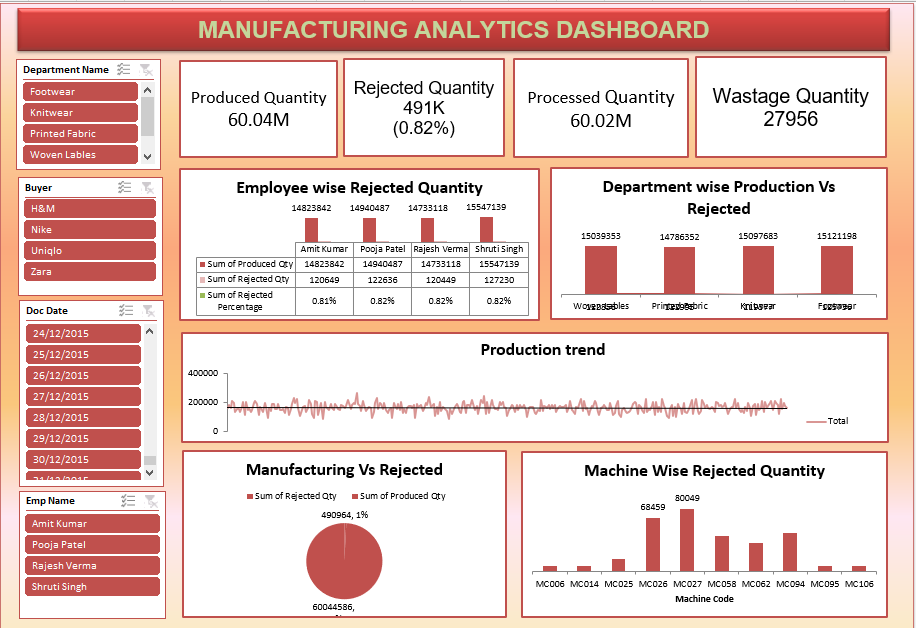

This screenshot's page, from the dashboard's own definition file:
{"tool":"tableau","page":{"name":"Dashboard 1","canvas":[1000,1000],"units":"permille","ordinal":0},"visuals":[{"type":"text","box":[155.4,10.2,838.4,87.8]},{"type":"dashboard-object","box":[3.6,14.3,143.9,244.9]},{"type":"worksheet","title":"Produced Quantity","mark":"Automatic","box":[154.5,116.3,164.3,265.3]},{"type":"worksheet","title":"Rejected Quantity","mark":"Automatic","box":[323.3,116.3,171.4,263.3]},{"type":"worksheet","title":"Processed Quantity","mark":"Automatic","box":[499.1,116.3,175.8,265.3]},{"type":"worksheet","title":"Wastage Quantity","mark":"Automatic","box":[677.6,116.3,181.2,263.3]},{"type":"worksheet","title":"Machine wise Rejected Quantity","mark":"Square","rows":["Machine_Code"],"box":[860.6,116.3,137.7,861.2]},{"type":"image","param":"Image/Processed icon.png","box":[556.8,173.5,56,83.7]},{"type":"image","param":"Image/produced qty.png","box":[217.6,175.5,39.1,77.5]},{"type":"image","param":"Image/rejection.jfif","box":[386.3,177.6,51.5,75.5]},{"type":"image","param":"Image/wastage.png","box":[744.2,179.6,50.6,71.4]},{"type":"filter","title":"Employee wise Rejected Quantity","param":"[federated.11p4e6t1ywob0l15faut60msm7h8].[none:Department_Name:nk]","box":[2.7,273.5,148.3,263.3]},{"type":"worksheet","title":"Production Trend","mark":"Automatic","rows":["Produced_Qty"],"cols":["Doc_Date"],"box":[155.4,395.9,700.7,259.2]},{"type":"filter","title":"Production Trend","param":"[federated.11p4e6t1ywob0l15faut60msm7h8].[none:Doc_Date:qk]","box":[2.7,536.7,148.3,179.6]},{"type":"worksheet","title":"Departmentwise M vs R","mark":"Automatic","cols":["Department_Name"],"box":[635,673.5,218.5,310.2]},{"type":"worksheet","title":"Manufacturing vs Rejected ","mark":"Automatic","box":[423.6,677.6,204.3,310.2]},{"type":"worksheet","title":"Employee wise Rejected Quantity","mark":"Automatic","rows":["Emp_Name"],"cols":["Rejected_Qty"],"box":[152.8,679.6,265.5,308.2]},{"type":"filter","title":"Production Trend","param":"[federated.11p4e6t1ywob0l15faut60msm7h8].[none:Buyer:nk]","box":[2.7,716.3,148.3,265.3]}]}

Visuals, with their boxes on the dashboard's canvas, which has no fixed pixel size, in thousandths of its width and height (x1, y1, x2, y2). These are canvas units, not pixel positions in the 916x628 screenshot, which may show the page scaled, cropped or inside an application window:
text: bbox=[155, 10, 994, 98]
dashboard-object: bbox=[4, 14, 148, 259]
"Produced Quantity" worksheet: bbox=[154, 116, 319, 382]
"Rejected Quantity" worksheet: bbox=[323, 116, 495, 380]
"Processed Quantity" worksheet: bbox=[499, 116, 675, 382]
"Wastage Quantity" worksheet: bbox=[678, 116, 859, 380]
"Machine wise Rejected Quantity" worksheet (Square marks): bbox=[861, 116, 998, 978]
image: bbox=[557, 174, 613, 257]
image: bbox=[218, 176, 257, 253]
image: bbox=[386, 178, 438, 253]
image: bbox=[744, 180, 795, 251]
"Employee wise Rejected Quantity" filter: bbox=[3, 274, 151, 537]
"Production Trend" worksheet: bbox=[155, 396, 856, 655]
"Production Trend" filter: bbox=[3, 537, 151, 716]
"Departmentwise M vs R" worksheet: bbox=[635, 674, 854, 984]
"Manufacturing vs Rejected " worksheet: bbox=[424, 678, 628, 988]
"Employee wise Rejected Quantity" worksheet: bbox=[153, 680, 418, 988]
"Production Trend" filter: bbox=[3, 716, 151, 982]
